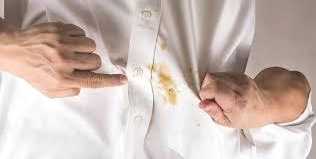coffee: (155, 64, 177, 107)
